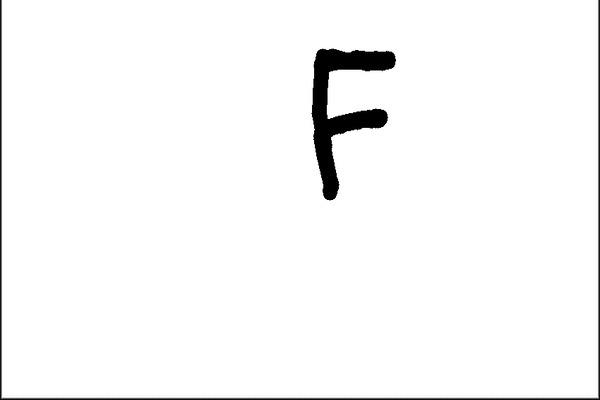F: (307, 42, 398, 202)
